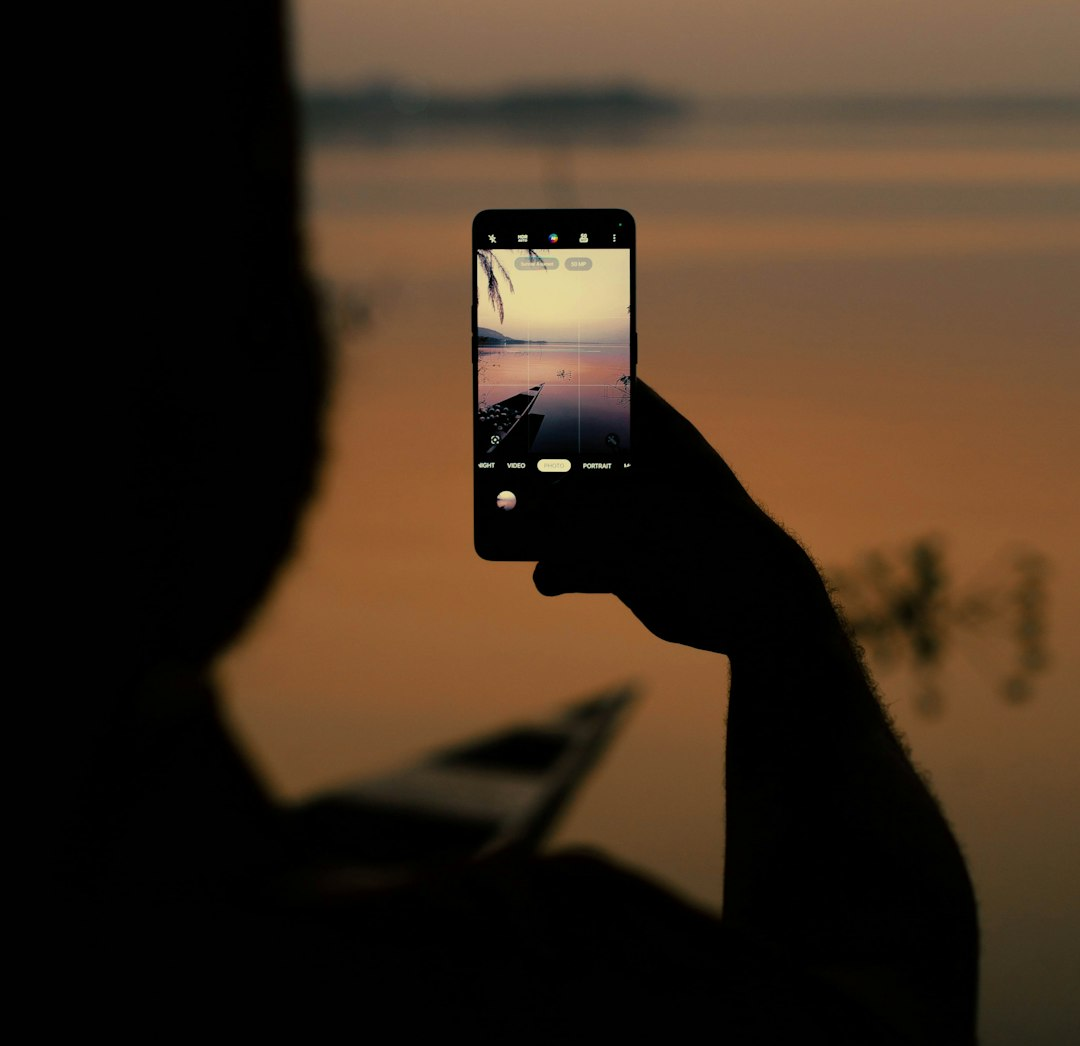phone: (469, 207, 639, 567)
